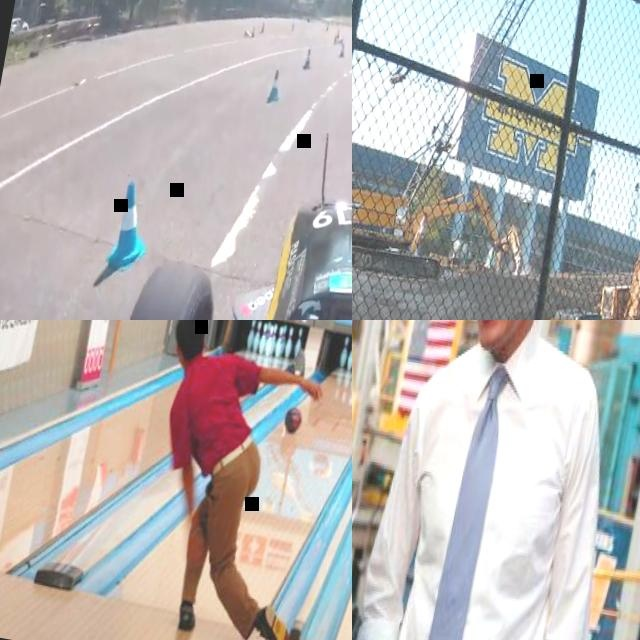NO-Hardhat: (172, 320, 208, 342)
NO-Mask: (464, 320, 541, 356)
NO-Safety Vest: (376, 321, 602, 640), (169, 350, 263, 473)
Person: (352, 320, 640, 640), (121, 320, 346, 640), (352, 320, 443, 640)
Safety Cone: (105, 170, 152, 267), (264, 67, 286, 101), (299, 43, 313, 79), (338, 43, 346, 58), (249, 25, 255, 42), (336, 35, 344, 45), (333, 31, 338, 45), (243, 28, 250, 37), (290, 21, 296, 31), (325, 23, 330, 33)
machinery: (352, 160, 535, 299), (525, 137, 640, 320)
vehicle: (102, 164, 352, 320)
